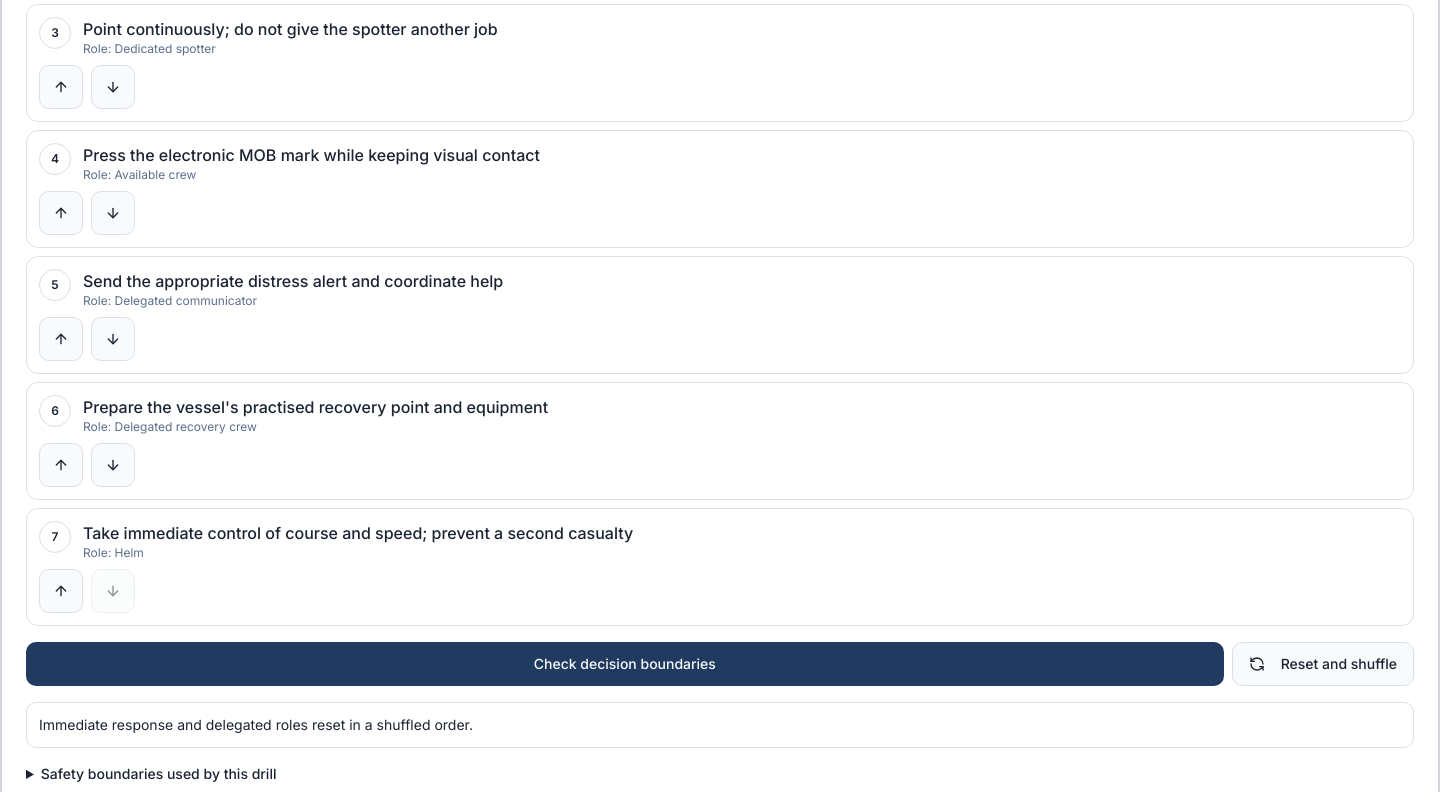
Scenario: MOB drill contract › resets and reshuffles on scenario switches without retaining solved feedback
(page scrolled)
Click the button "Check decision boundaries" at (625, 664), box x1=26 y1=642 x2=1224 y2=686
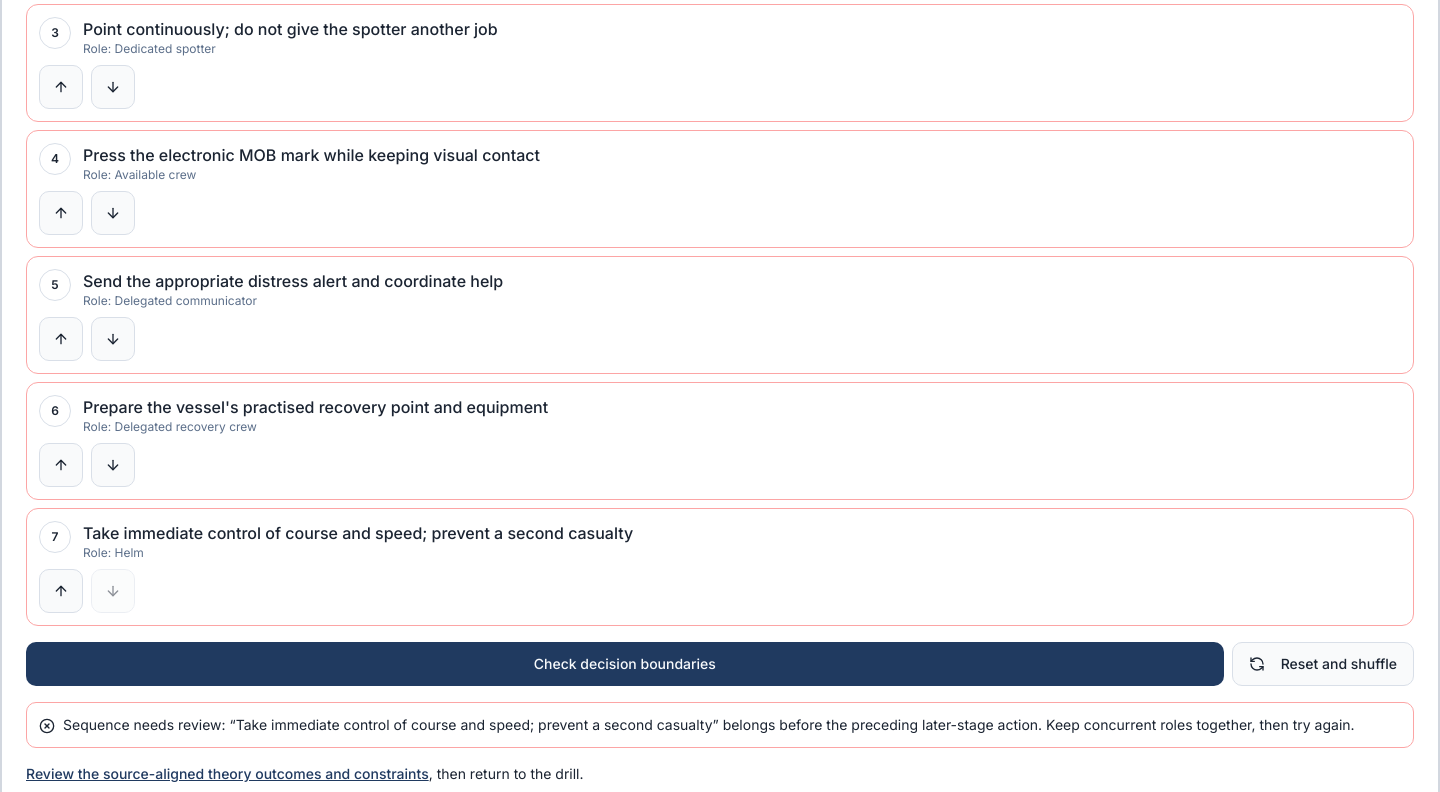
Click the button "Reset and shuffle" at (1323, 664), box x1=1232 y1=642 x2=1414 y2=686
(page scrolled)
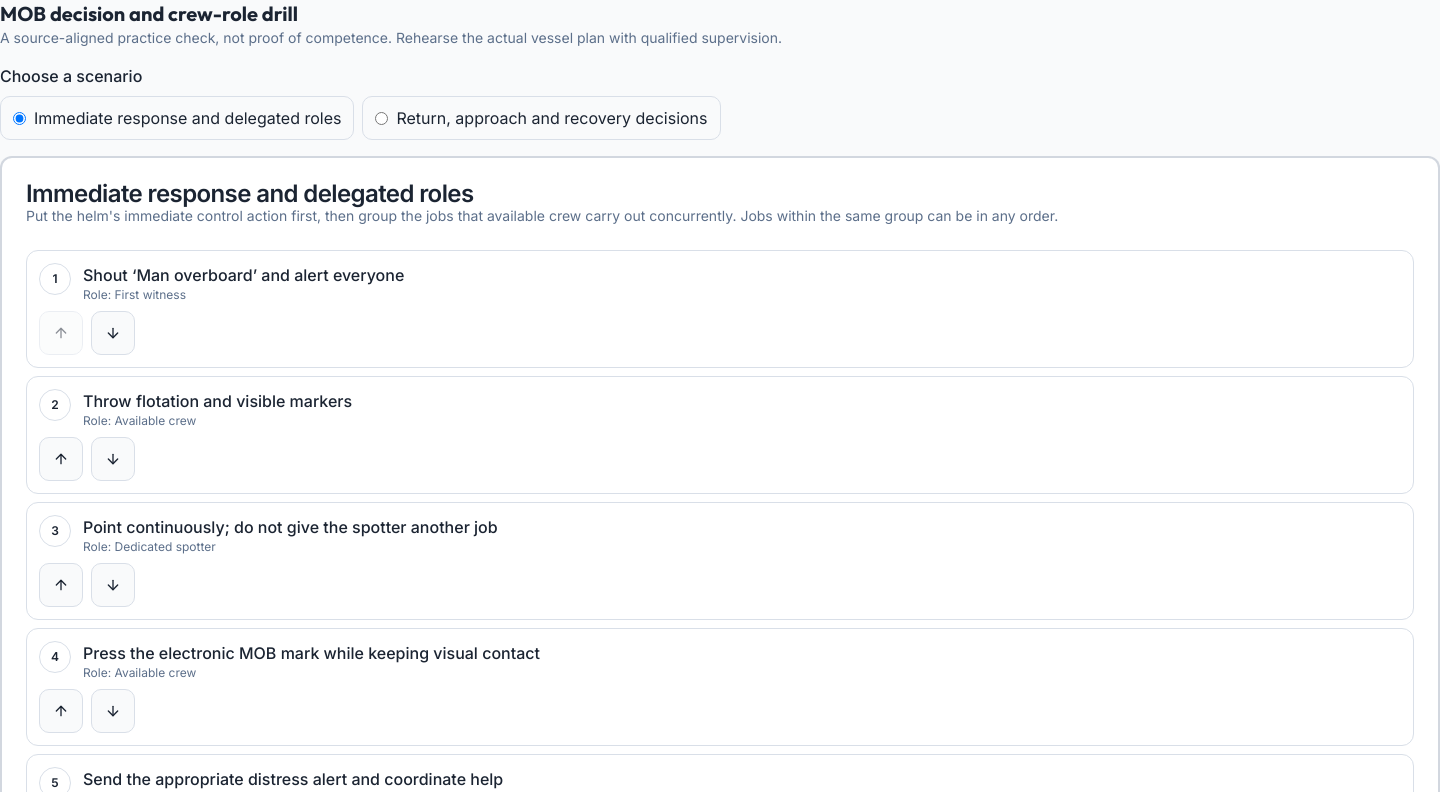
Click the radio button labelled "Return, approach and recovery decisions" at (382, 118), box x1=375 y1=112 x2=388 y2=124
(page scrolled)
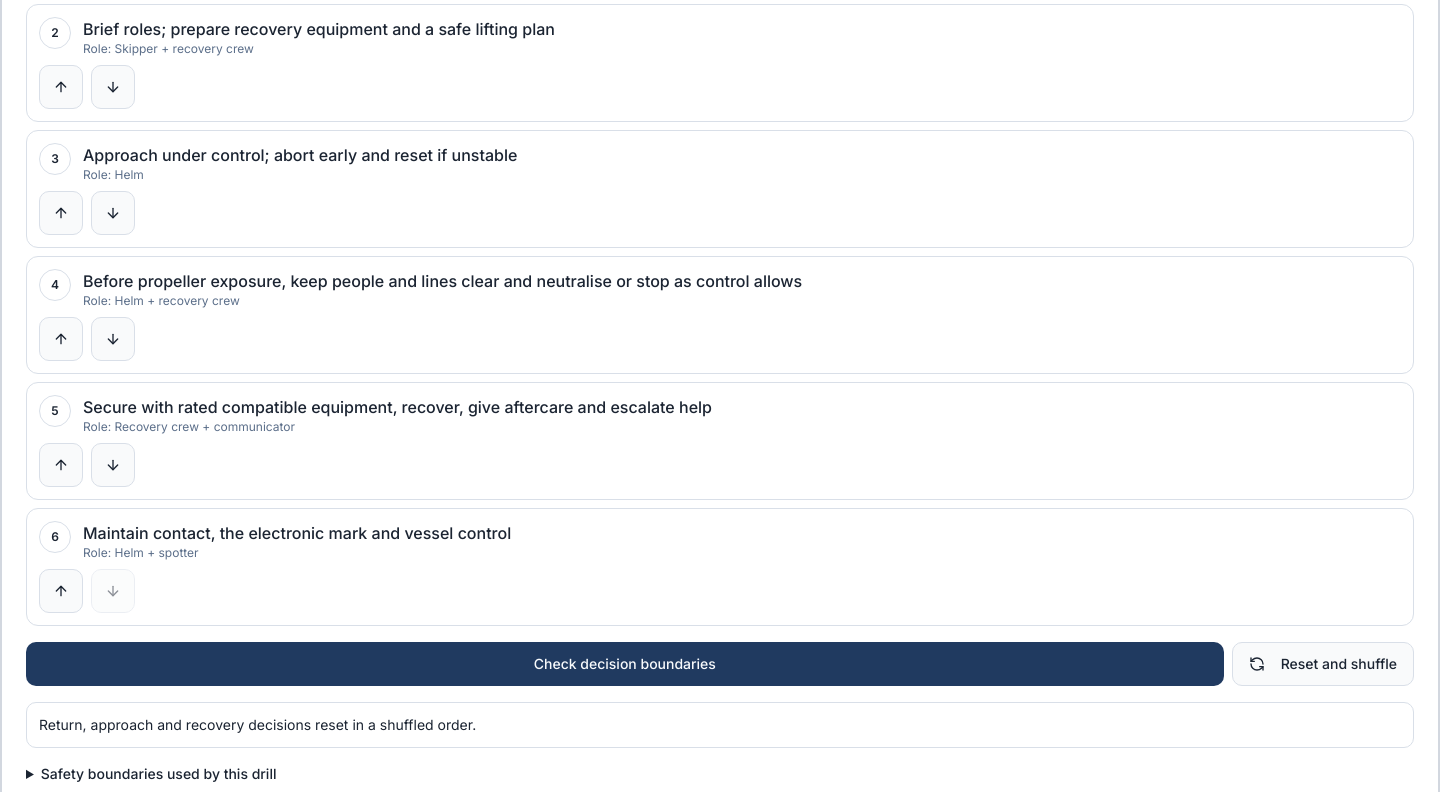
Expected: the message shows "Return, approach and recovery decisions reset", x1=39 y1=716 x2=476 y2=733
